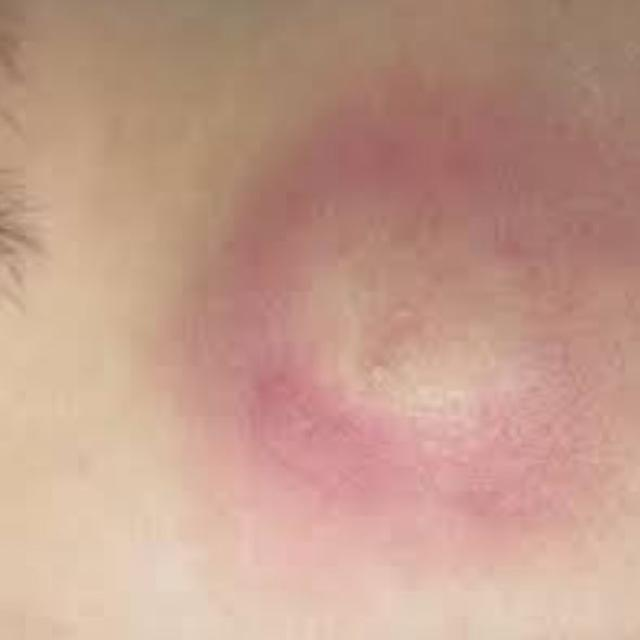nodule: (218, 81, 620, 537)
